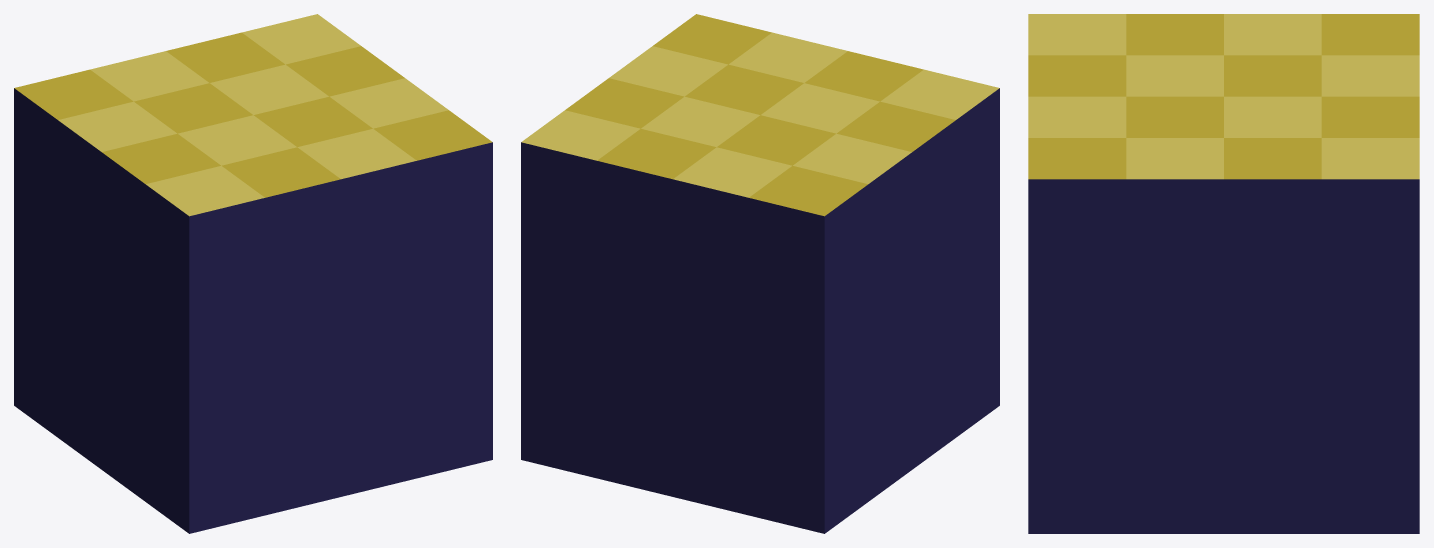
File: box_yellow.glb
3 views of the same model, side by side, from view 1: azimuth 30°, elevation 25°; view 2: azimuth 150°, elevation 25°; view 3: azimuth 270°, elevation 25° (orthographic). The views are drawn at different scales.
Parts seen in each view (by area): view 1: Body; view 2: Body; view 3: Body.
Boxes of the visible parts, x1,y1,x2,y2 form: Body: (14,14,492,533); Body: (521,14,999,533); Body: (1028,14,1419,533).
Bounding box in the file's own units: 1 × 1 × 1.
